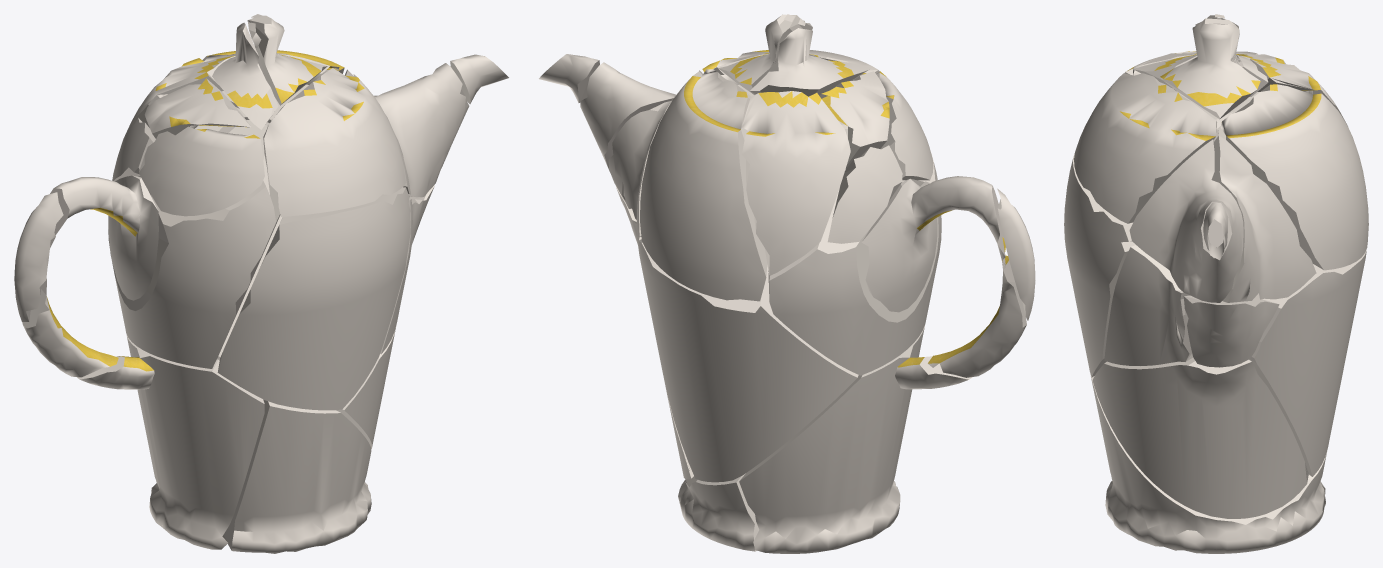
File: TeaPot_Broken.fbx
3 renders of one model, left to right at view 1: azimuth 30°, elevation 25°; view 2: azimuth 150°, elevation 25°; view 3: azimuth 270°, elevation 25°, orthographic.
Parts seen in each view (by area): view 1: TeaPot_cell.023, TeaPot_cell.020, TeaPot_cell.002, TeaPot_cell.022, TeaPot_cell.021, TeaPot_cell.017, TeaPot_cell.019, TeaPot_cell.024, TeaPot_cell.003, TeaPot_cell, TeaPot_cell.008, TeaPot_cell.004 (+6 smaller); view 2: TeaPot_cell.018, TeaPot_cell.020, TeaPot_cell.001, TeaPot_cell.013, TeaPot_cell.017, TeaPot_cell.002, TeaPot_cell.015, TeaPot_cell.022, TeaPot_cell.024, TeaPot_cell.003, TeaPot_cell.008, TeaPot_cell.007 (+5 smaller); view 3: TeaPot_cell.006, TeaPot_cell.001, TeaPot_cell.018, TeaPot_cell.021, TeaPot_cell.022, TeaPot_cell.024, TeaPot_cell.007, TeaPot_cell.009, TeaPot_cell.023, TeaPot_cell.004, TeaPot_cell.014, TeaPot_cell.013 (+3 smaller).
Boxes of the visible parts, x1,y1,x2,y2 form: TeaPot_cell.023: [217, 187, 410, 410]; TeaPot_cell.020: [77, 334, 264, 549]; TeaPot_cell.002: [110, 120, 280, 368]; TeaPot_cell.022: [223, 399, 371, 553]; TeaPot_cell.021: [263, 68, 405, 216]; TeaPot_cell.017: [22, 175, 158, 377]; TeaPot_cell.019: [139, 126, 264, 216]; TeaPot_cell.024: [353, 63, 469, 197]; TeaPot_cell.003: [144, 78, 251, 138]; TeaPot_cell: [14, 192, 63, 321]; TeaPot_cell.008: [212, 22, 278, 129]; TeaPot_cell.004: [247, 15, 327, 105]; TeaPot_cell.018: [637, 239, 858, 482]; TeaPot_cell.020: [739, 324, 972, 553]; TeaPot_cell.001: [640, 69, 767, 301]; TeaPot_cell.013: [742, 91, 850, 275]; TeaPot_cell.017: [861, 176, 1026, 377]; TeaPot_cell.002: [768, 120, 941, 375]; TeaPot_cell.015: [827, 145, 902, 243]; TeaPot_cell.022: [678, 473, 895, 551]; TeaPot_cell.024: [580, 62, 702, 171]; TeaPot_cell.003: [819, 71, 889, 169]; TeaPot_cell.008: [750, 28, 871, 96]; TeaPot_cell.007: [608, 71, 702, 238]; TeaPot_cell.006: [1092, 357, 1308, 518]; TeaPot_cell.001: [1218, 84, 1368, 270]; TeaPot_cell.018: [1249, 250, 1366, 476]; TeaPot_cell.021: [1074, 73, 1216, 223]; TeaPot_cell.022: [1090, 374, 1327, 553]; TeaPot_cell.024: [1129, 139, 1243, 302]; TeaPot_cell.007: [1211, 136, 1316, 302]; TeaPot_cell.009: [1104, 245, 1193, 365]; TeaPot_cell.023: [1064, 154, 1135, 377]; TeaPot_cell.004: [1160, 18, 1260, 119]; TeaPot_cell.014: [1183, 295, 1279, 367]; TeaPot_cell.013: [1232, 54, 1347, 125].
Bounding box in the file's own units: 33.51 × 31.88 × 17.88.
